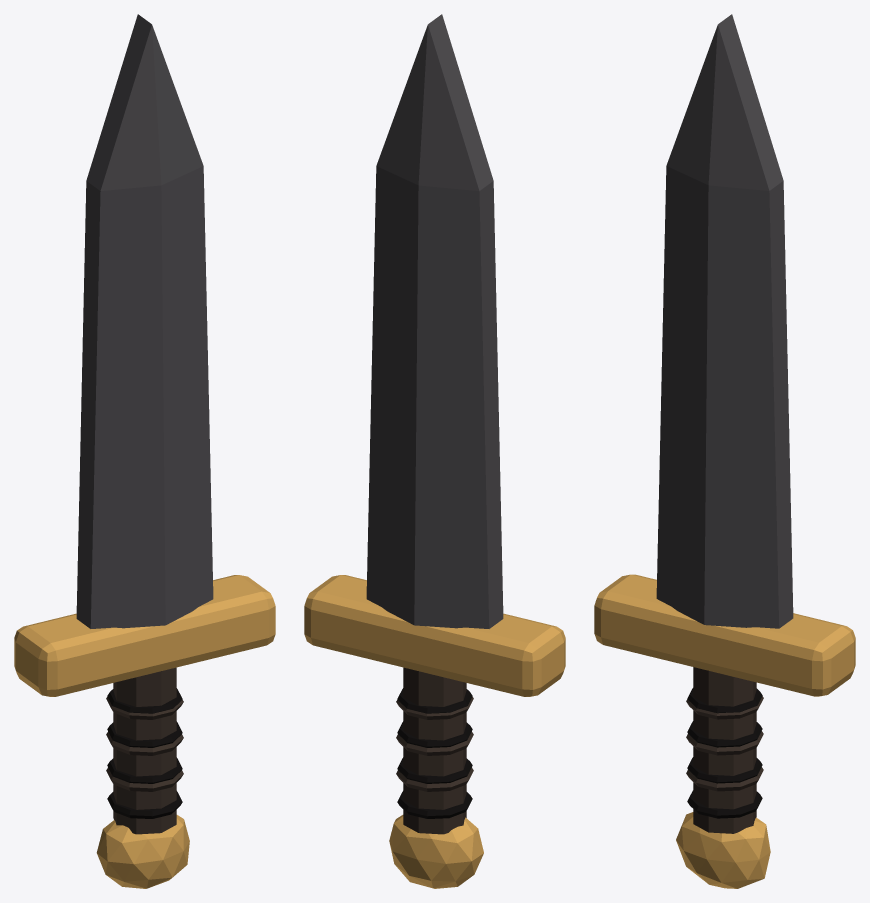
File: evil_sword.glb
3 views of the same model, side by side, from view 1: azimuth 30°, elevation 25°; view 2: azimuth 150°, elevation 25°; view 3: azimuth 330°, elevation 25° (orthographic).
Parts seen in each view (by area): view 1: Sword broad faceted blade, Sword gold guard, Sword leather grip, Sword pommel, Sword grip wrap, Sword grip wrap.002, Sword grip wrap.001, Woodland equipment worn binding, Woodland equipment worn binding.001, Sword grip wrap.003; view 2: Sword broad faceted blade, Sword gold guard, Sword leather grip, Sword pommel, Sword grip wrap, Sword grip wrap.002, Sword grip wrap.001, Woodland equipment worn binding, Woodland equipment worn binding.001, Sword grip wrap.003; view 3: Sword broad faceted blade, Sword gold guard, Sword leather grip, Sword pommel, Sword grip wrap, Sword grip wrap.002, Sword grip wrap.001, Sword grip wrap.003, Woodland equipment worn binding, Woodland equipment worn binding.001.
Part boxes in pixels (bbox=[...]): Sword broad faceted blade: bbox=[76, 14, 213, 628]; Sword gold guard: bbox=[14, 575, 275, 696]; Sword leather grip: bbox=[113, 667, 176, 834]; Sword pommel: bbox=[96, 815, 189, 888]; Sword grip wrap: bbox=[107, 791, 182, 818]; Sword grip wrap.002: bbox=[107, 721, 182, 747]; Sword grip wrap.001: bbox=[107, 757, 182, 783]; Woodland equipment worn binding: bbox=[106, 767, 183, 791]; Woodland equipment worn binding.001: bbox=[106, 731, 183, 755]; Sword grip wrap.003: bbox=[107, 688, 182, 713]; Sword broad faceted blade: bbox=[366, 14, 503, 628]; Sword gold guard: bbox=[304, 575, 565, 696]; Sword leather grip: bbox=[403, 667, 466, 834]; Sword pommel: bbox=[389, 815, 483, 888]; Sword grip wrap: bbox=[397, 791, 472, 818]; Sword grip wrap.002: bbox=[397, 721, 472, 747]; Sword grip wrap.001: bbox=[397, 757, 472, 783]; Woodland equipment worn binding: bbox=[396, 767, 473, 791]; Woodland equipment worn binding.001: bbox=[396, 731, 473, 755]; Sword grip wrap.003: bbox=[397, 688, 472, 713]; Sword broad faceted blade: bbox=[656, 14, 793, 628]; Sword gold guard: bbox=[594, 574, 855, 696]; Sword leather grip: bbox=[693, 667, 756, 833]; Sword pommel: bbox=[676, 812, 770, 888]; Sword grip wrap: bbox=[687, 790, 762, 818]; Sword grip wrap.002: bbox=[687, 721, 762, 747]; Sword grip wrap.001: bbox=[687, 757, 762, 783]; Sword grip wrap.003: bbox=[687, 688, 762, 713]; Woodland equipment worn binding: bbox=[686, 767, 763, 791]; Woodland equipment worn binding.001: bbox=[686, 731, 763, 755].
Bounding box in the file's own units: 0.48 × 1.69 × 0.146.
